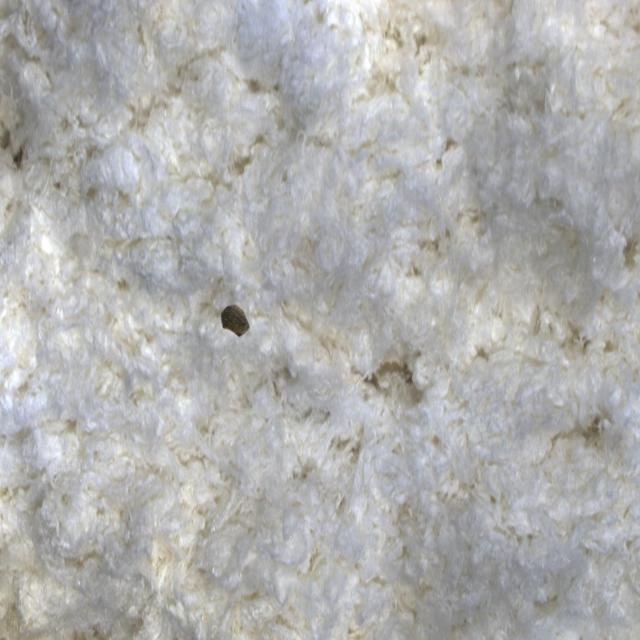dust: (213, 287, 265, 358)
